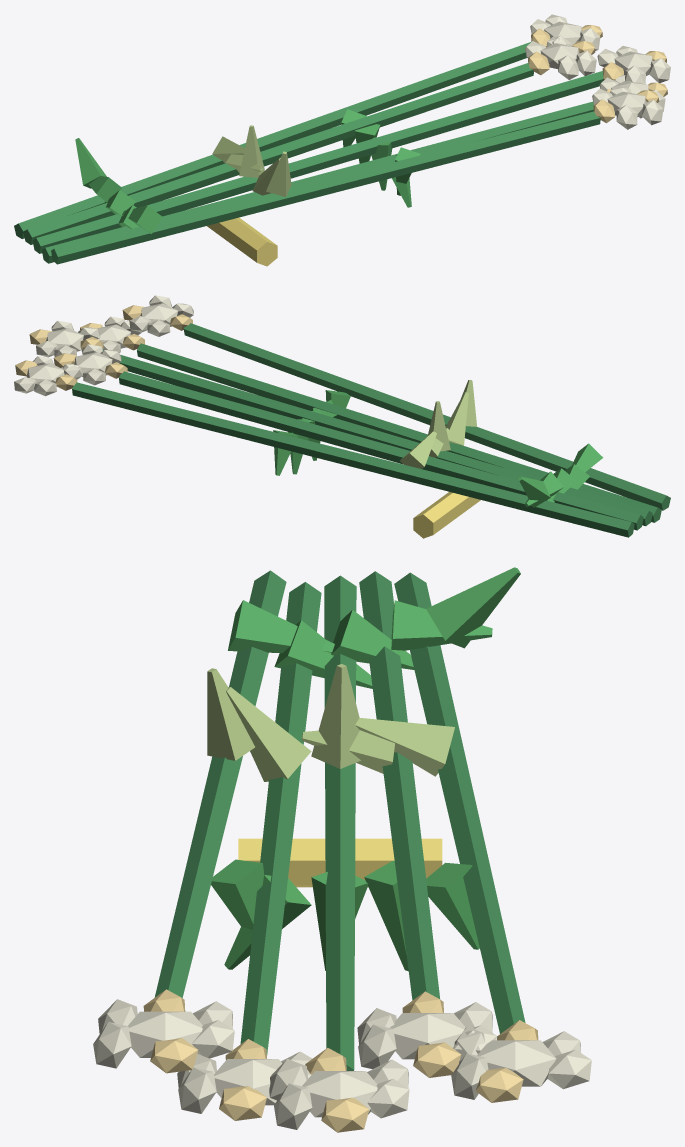
Rendered from pickup_herb.glb.
3 views of the same model, one above another, from view 1: azimuth 30°, elevation 25°; view 2: azimuth 150°, elevation 25°; view 3: azimuth 270°, elevation 25° (orthographic). The views are drawn at different scales.
Visible parts, largest first — view 1: Herb_Stem_1, Herb_Stem_3, Herb_Stem_4, Herb_Stem_5, Herb_Stem_2, Herb_Tie, Herb_Leaf_3_2, Herb_Leaf_5_1, Herb_Leaf_1_2, Herb_Leaf_1_1, Herb_Umbel_3, Herb_Umbel_1 (+12 smaller); view 2: Herb_Stem_5, Herb_Stem_1, Herb_Stem_4, Herb_Stem_2, Herb_Stem_3, Herb_Tie, Herb_Leaf_2_2, Herb_Leaf_5_2, Herb_Umbel_3, Herb_Leaf_5_1, Herb_Leaf_3_2, Herb_Umbel_4 (+7 smaller); view 3: Herb_Stem_5, Herb_Stem_2, Herb_Stem_3, Herb_Stem_4, Herb_Stem_1, Herb_Tie, Herb_Leaf_2_2, Herb_Leaf_5_1, Herb_Leaf_3_2, Herb_Leaf_5_2, Herb_Leaf_1_2, Herb_Leaf_1_1 (+28 smaller).
Boxes of the visible parts, x1=… form: Herb_Stem_1: x1=51, y1=111, x2=600, y2=264; Herb_Stem_3: x1=32, y1=71, x2=604, y2=253; Herb_Stem_4: x1=23, y1=63, x2=533, y2=244; Herb_Stem_5: x1=14, y1=41, x2=531, y2=238; Herb_Stem_2: x1=42, y1=101, x2=593, y2=263; Herb_Tie: x1=207, y1=217, x2=277, y2=266; Herb_Leaf_3_2: x1=239, y1=125, x2=264, y2=177; Herb_Leaf_5_1: x1=75, y1=138, x2=106, y2=188; Herb_Leaf_1_2: x1=266, y1=151, x2=291, y2=196; Herb_Leaf_1_1: x1=122, y1=205, x2=162, y2=233; Herb_Umbel_3: x1=614, y1=51, x2=652, y2=75; Herb_Umbel_1: x1=607, y1=91, x2=646, y2=116; Herb_Stem_5: x1=72, y1=382, x2=634, y2=537; Herb_Stem_1: x1=183, y1=323, x2=670, y2=510; Herb_Stem_4: x1=119, y1=371, x2=643, y2=530; Herb_Stem_2: x1=137, y1=343, x2=661, y2=522; Herb_Stem_3: x1=103, y1=349, x2=652, y2=526; Herb_Tie: x1=413, y1=492, x2=480, y2=538; Herb_Leaf_2_2: x1=445, y1=392, x2=468, y2=445; Herb_Leaf_5_2: x1=399, y1=431, x2=436, y2=468; Herb_Umbel_3: x1=46, y1=328, x2=83, y2=351; Herb_Leaf_5_1: x1=518, y1=476, x2=550, y2=507; Herb_Leaf_3_2: x1=427, y1=401, x2=450, y2=451; Herb_Umbel_4: x1=74, y1=352, x2=112, y2=376; Herb_Stem_5: x1=394, y1=572, x2=525, y2=1033; Herb_Stem_2: x1=240, y1=582, x2=321, y2=1054; Herb_Stem_3: x1=324, y1=575, x2=356, y2=1070; Herb_Stem_4: x1=359, y1=571, x2=439, y2=1000; Herb_Stem_1: x1=154, y1=570, x2=286, y2=997; Herb_Tie: x1=238, y1=838, x2=442, y2=887; Herb_Leaf_2_2: x1=226, y1=687, x2=311, y2=781; Herb_Leaf_5_1: x1=426, y1=567, x2=520, y2=648; Herb_Leaf_3_2: x1=311, y1=664, x2=360, y2=768; Herb_Leaf_5_2: x1=355, y1=718, x2=454, y2=776; Herb_Leaf_1_2: x1=207, y1=668, x2=254, y2=760; Herb_Leaf_1_1: x1=228, y1=600, x2=334, y2=653.
Size of the model in its own units: 0.3 by 0.0538 by 0.105.
